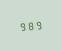eight: (27, 20, 34, 30)
nine: (35, 19, 42, 30), (18, 21, 25, 31)
